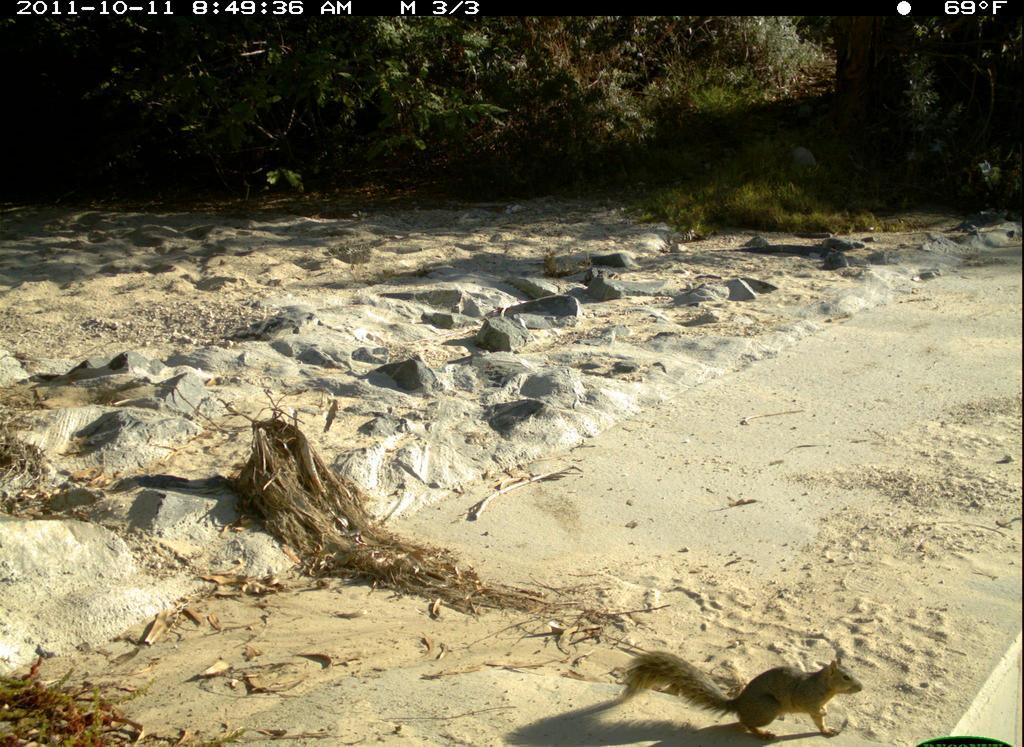squirrel: (612, 625, 877, 747)
